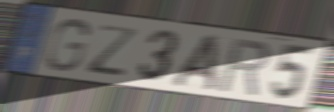3: (136, 28, 180, 84)
5: (269, 41, 318, 101)
A: (168, 32, 219, 93)
G: (43, 17, 91, 73)
R: (216, 36, 273, 98)
Z: (86, 22, 143, 78)
